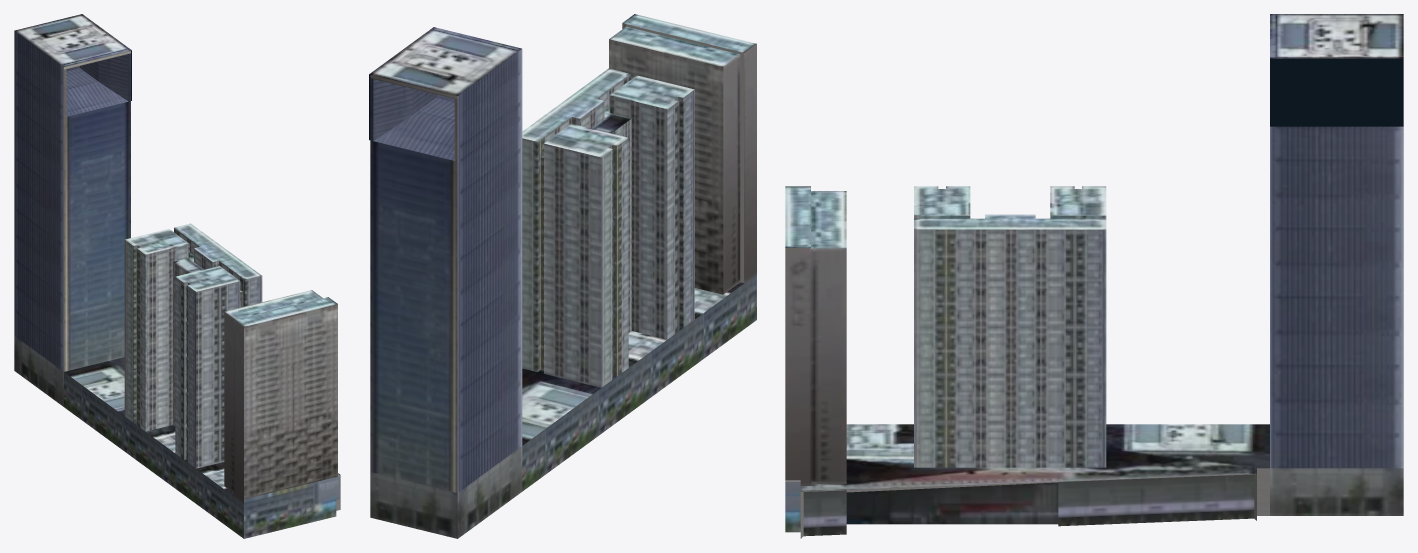
Rendered from galaxy_century_building_26468923.glb.
The picture shows the model from 3 angles, left to right: view 1: azimuth 30°, elevation 25°; view 2: azimuth 150°, elevation 25°; view 3: azimuth 270°, elevation 25°; orthographic projection. The views are drawn at different scales.
Parts seen in each view (by area): view 1: galaxy_century_building_26468923; view 2: galaxy_century_building_26468923; view 3: galaxy_century_building_26468923.
Part boxes in pixels (bbox=[...]): galaxy_century_building_26468923: bbox=[14, 14, 340, 538]; galaxy_century_building_26468923: bbox=[369, 14, 756, 538]; galaxy_century_building_26468923: bbox=[785, 14, 1403, 538].
Size of the model in its own units: 54.51 by 173 by 212.
Materials: 1 (1 with a texture image).
